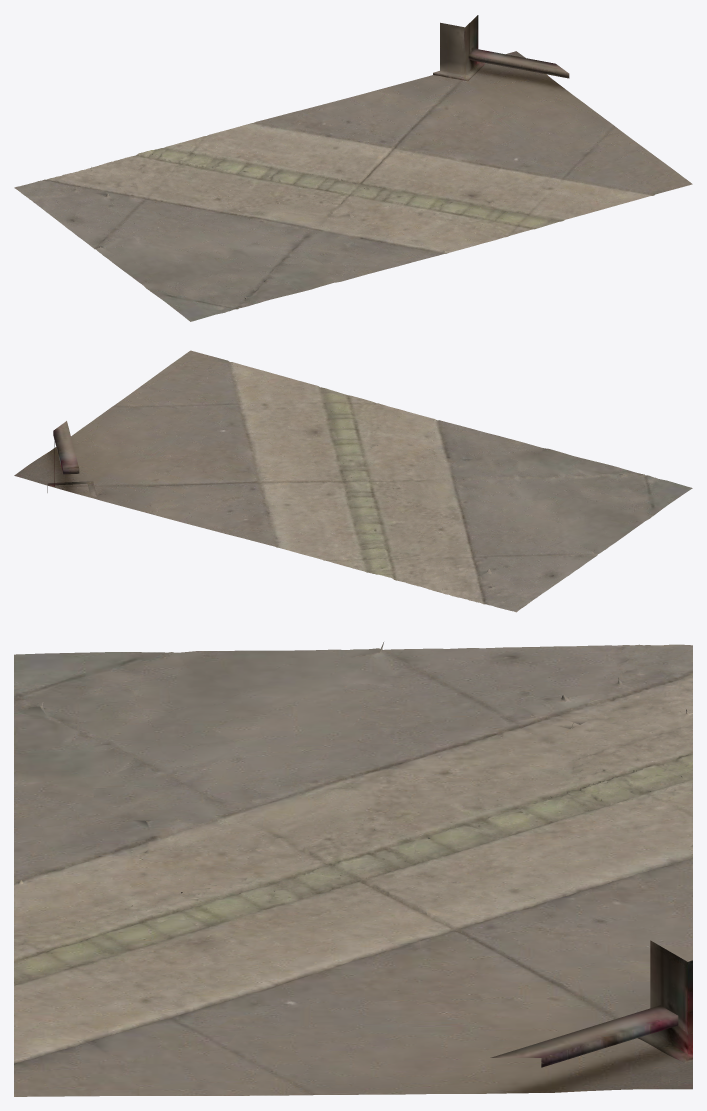
The picture shows the model from 3 angles, top to bottom: view 1: azimuth 30°, elevation 25°; view 2: azimuth 150°, elevation 25°; view 3: azimuth 270°, elevation 25°; orthographic projection. The views are drawn at different scales.
Bounding box in the file's own units: 4.57 × 0.5758 × 2.78.
Materials: 1 (1 with a texture image).
